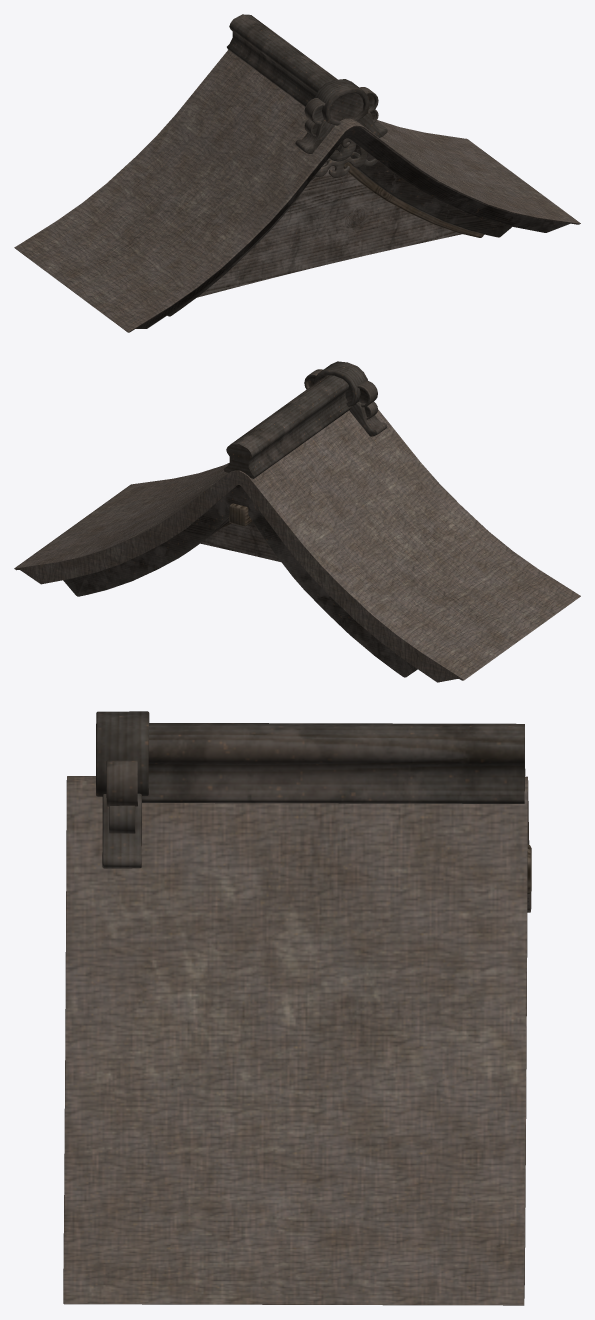
The model's file is ShrineModule_Roof-10.fbx.
3 views of the same model, one above another, from view 1: azimuth 30°, elevation 25°; view 2: azimuth 150°, elevation 25°; view 3: azimuth 270°, elevation 25° (orthographic). The views are drawn at different scales.
Visible parts, largest first — view 1: ShrineModule_Roof-10; view 2: ShrineModule_Roof-10; view 3: ShrineModule_Roof-10.
Part boxes in pixels (box(x1,y1,x2,y2)): ShrineModule_Roof-10: box(14, 14, 580, 332); ShrineModule_Roof-10: box(14, 361, 580, 682); ShrineModule_Roof-10: box(63, 711, 531, 1305).
Size of the model in its own units: 6.42 by 2.72 by 2.88.
